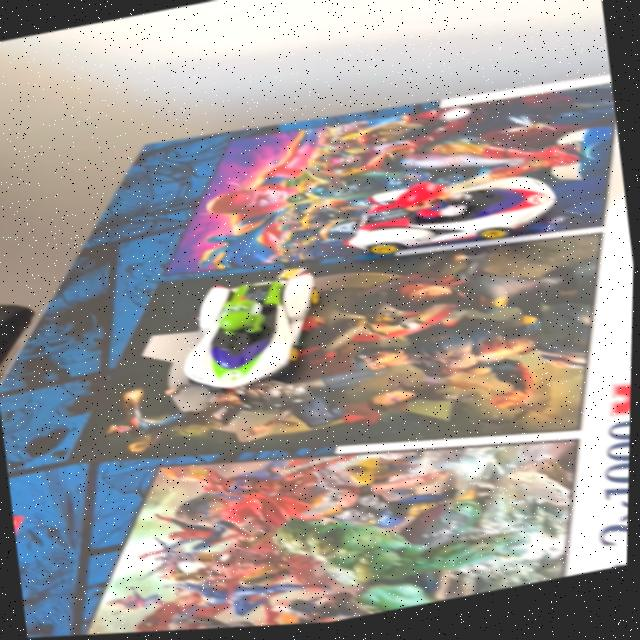mario: (345, 165, 585, 283)
yoshi: (131, 261, 342, 419)
